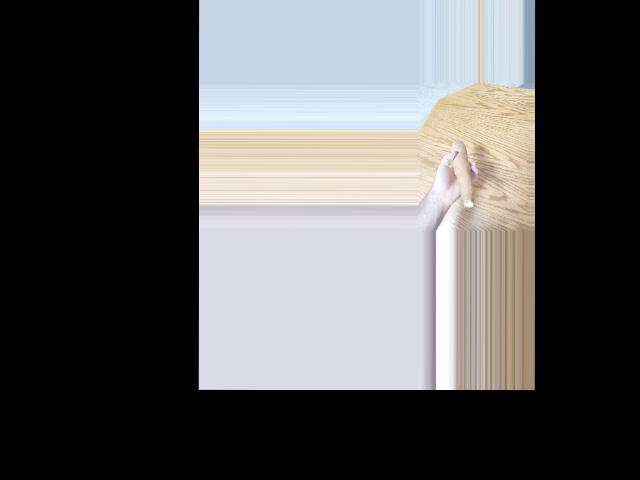sweet_potato: (454, 137, 475, 213)
